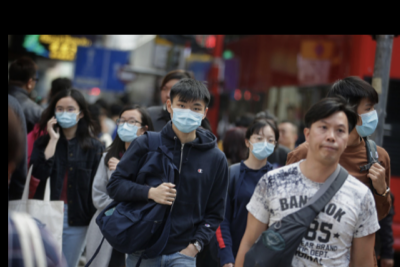with_mask: (172, 98, 206, 134), (358, 101, 380, 139), (53, 103, 81, 130), (251, 130, 275, 161), (117, 114, 142, 143)
without_mask: (311, 118, 347, 164)
